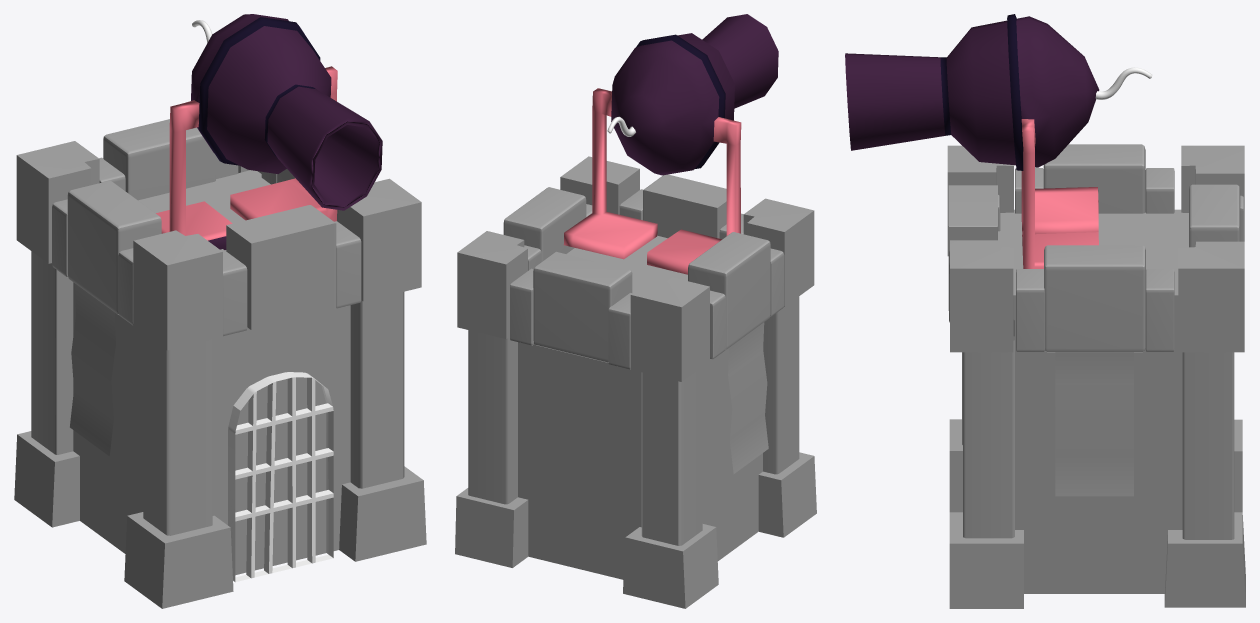
The model's file is cannontower.fbx.
3 renders of one model, left to right at view 1: azimuth 30°, elevation 25°; view 2: azimuth 150°, elevation 25°; view 3: azimuth 270°, elevation 25°, orthographic. The views are drawn at different scales.
Visible parts, largest first — view 1: pCylinder21, wall9, pCube13, door5, toppiece5, pCube7, wall6, corner17, pCube10, pCube14, toppiece7, corner16 (+10 smaller); view 2: pCylinder21, wall7, pCube14, pCube9, toppiece6, wall6, corner15, pCube12, toppiece7, corner18, pCube13, pCube11 (+12 smaller); view 3: pCylinder21, wall5, banner7, toppiece4, pCube9, pCube7, corner18, corner16, pCube11, pCube8, toppiece7, wall8 (+9 smaller).
Part boxes in pixels (left/top/right/bottom): pCylinder21: left=156, top=14, right=382, bottom=249; wall9: left=212, top=305, right=350, bottom=575; pCube13: left=143, top=333, right=212, bottom=535; door5: left=228, top=372, right=333, bottom=582; toppiece5: left=226, top=205, right=336, bottom=329; pCube7: left=350, top=292, right=404, bottom=488; wall6: left=73, top=282, right=143, bottom=553; corner17: left=133, top=230, right=222, bottom=350; pCube10: left=124, top=512, right=233, bottom=608; pCube14: left=31, top=251, right=73, bottom=454; toppiece7: left=67, top=180, right=161, bottom=314; corner16: left=338, top=178, right=421, bottom=301; pCylinder21: left=563, top=14, right=778, bottom=274; wall7: left=518, top=342, right=641, bottom=579; pCube14: left=641, top=367, right=702, bottom=545; pCube9: left=468, top=330, right=517, bottom=504; toppiece6: left=533, top=251, right=632, bottom=362; wall6: left=702, top=348, right=762, bottom=561; corner15: left=630, top=277, right=709, bottom=381; pCube12: left=623, top=524, right=718, bottom=608; toppiece7: left=688, top=232, right=770, bottom=349; corner18: left=457, top=231, right=527, bottom=338; pCube13: left=763, top=296, right=799, bottom=474; pCube11: left=455, top=488, right=528, bottom=567; pCylinder21: left=845, top=14, right=1099, bottom=268; wall5: left=1013, top=336, right=1182, bottom=593; banner7: left=1055, top=352, right=1133, bottom=496; toppiece4: left=1044, top=245, right=1145, bottom=352; pCube9: left=1182, top=352, right=1234, bottom=539; pCube7: left=963, top=319, right=1014, bottom=538; corner18: left=1178, top=241, right=1244, bottom=352; corner16: left=950, top=240, right=1013, bottom=352; pCube11: left=1164, top=512, right=1245, bottom=607; pCube8: left=949, top=512, right=1023, bottom=608; toppiece7: left=1043, top=144, right=1145, bottom=213; wall8: left=998, top=209, right=1188, bottom=295.
Size of the model in its own units: 1.08 by 2.08 by 1.43.
